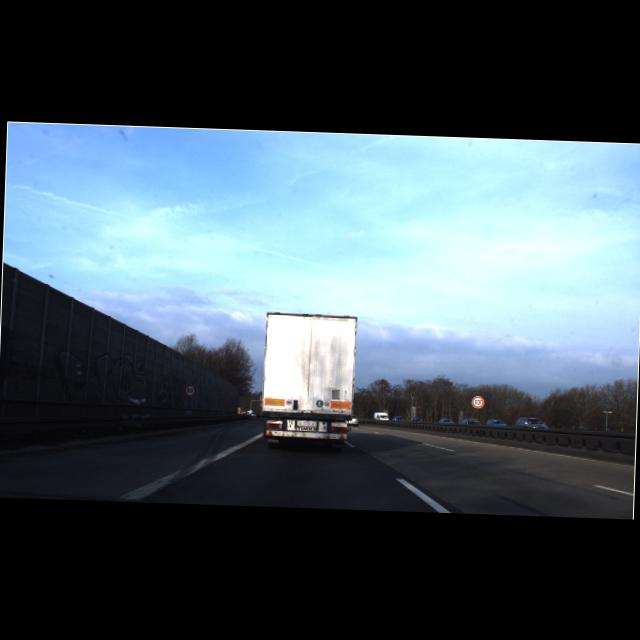prohibitory: (471, 395, 484, 408), (183, 383, 196, 396)
